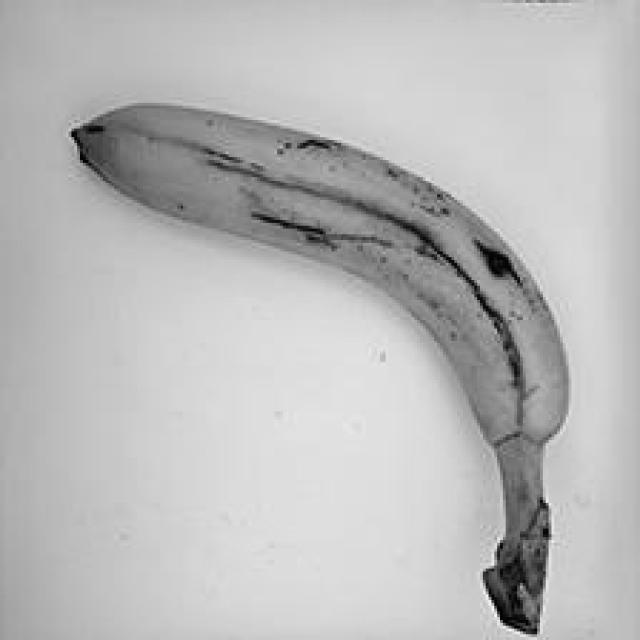Overripe: (53, 49, 639, 640)
